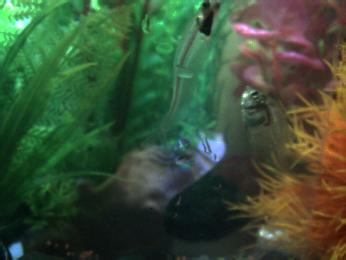X-ray fish: (238, 84, 298, 165)
glassfish: (143, 1, 222, 148)
